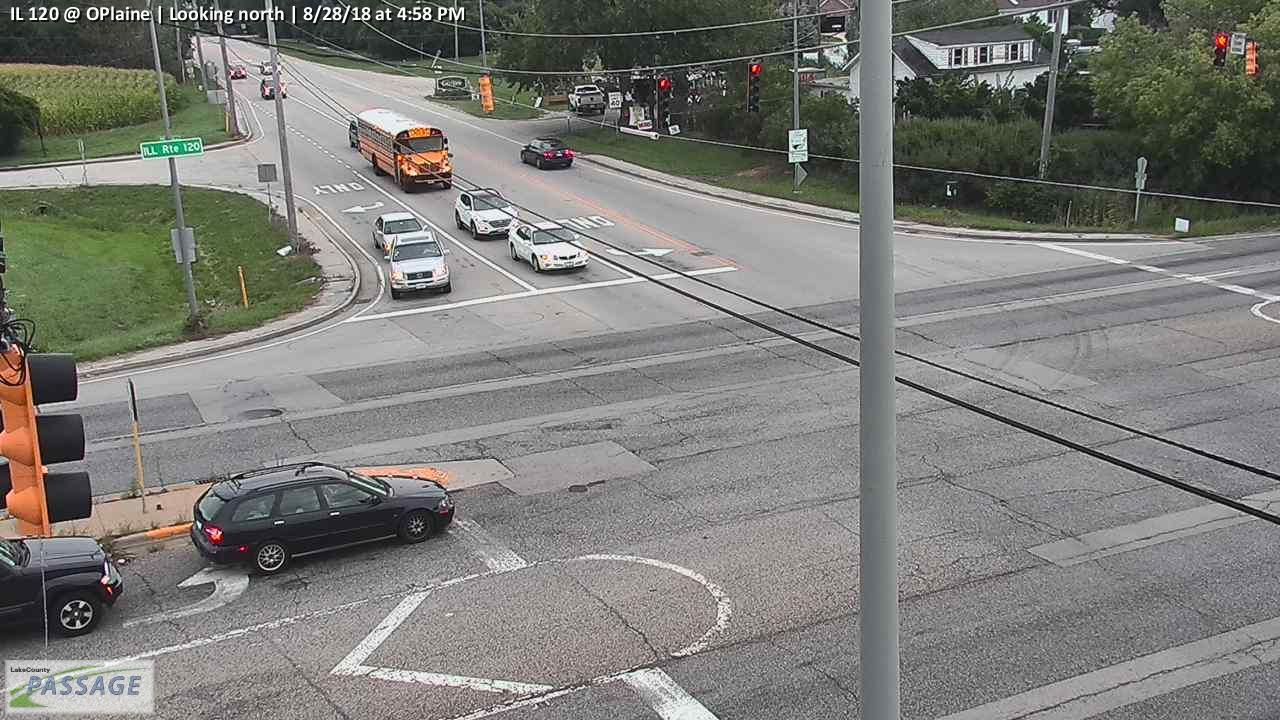SUV: (190, 461, 455, 575), (388, 229, 452, 297), (454, 187, 520, 241)
Sedan: (510, 220, 590, 273), (370, 212, 423, 252), (520, 135, 575, 169)
Truck: (356, 108, 453, 193), (567, 83, 607, 115)
